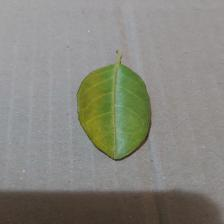greening: (70, 46, 157, 168)
